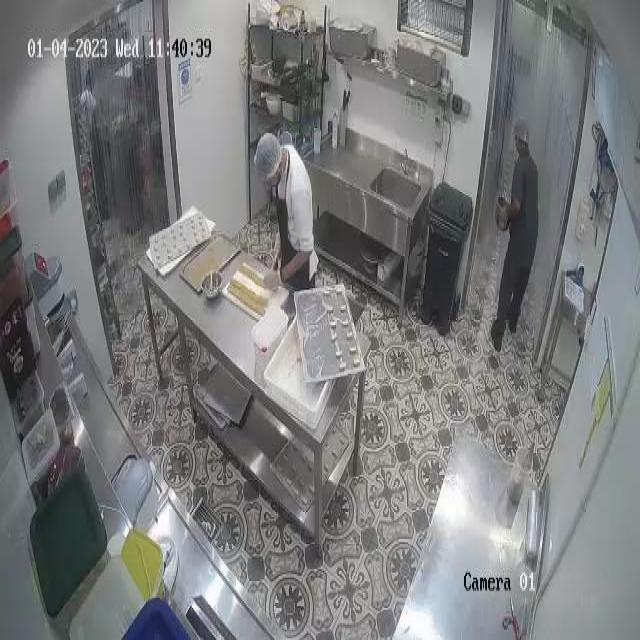hairnet: (257, 135, 281, 176), (513, 120, 530, 146)
